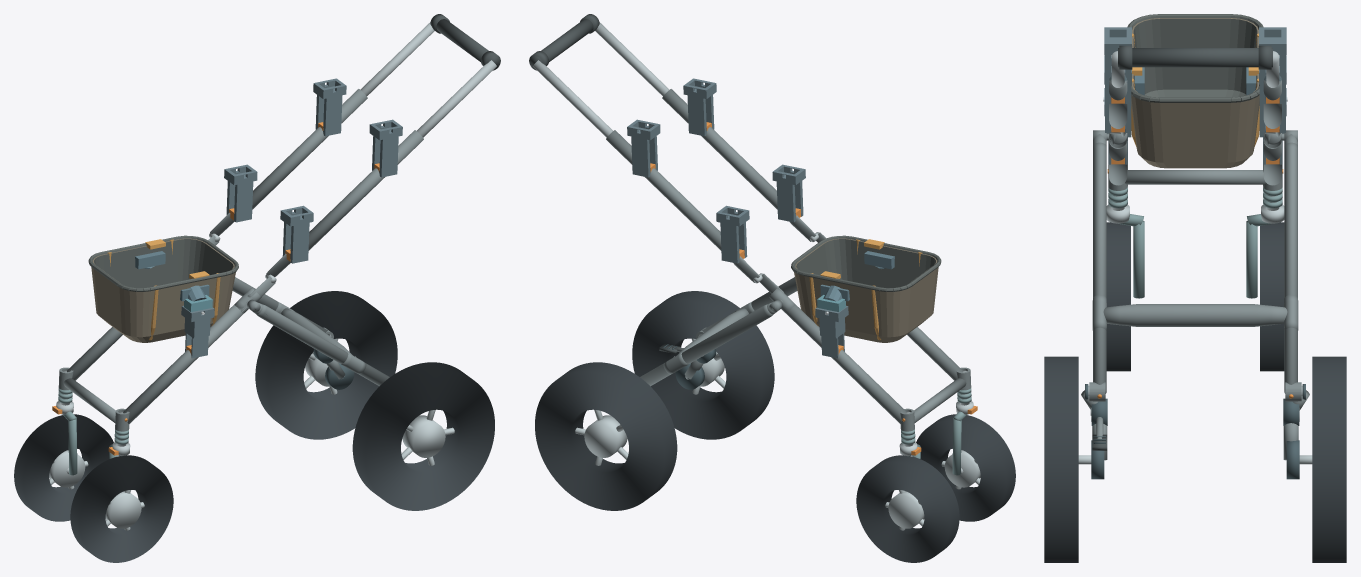
The model's file is S15_w380_state1_wheel_L.glb.
The picture shows the model from 3 angles, left to right: view 1: azimuth 30°, elevation 25°; view 2: azimuth 150°, elevation 25°; view 3: azimuth 270°, elevation 25°; orthographic projection. The views are drawn at different scales.
Parts seen in each view (by area): view 1: RL_tire.009, RR_tire.009, S15_Cabin, FL_tire.009, FR_tire.009, main_lower_-1, main_upper_1, main_upper_-1, V46_rear_leg_-1.002, Universal_Cabin_Receiver_H_-1, Universal_Cabin_Receiver_H_1, Universal_Cabin_Receiver_M_-1 (+11 smaller); view 2: RR_tire.009, RL_tire.009, S15_Cabin, FR_tire.009, FL_tire.009, main_lower_1, main_upper_-1, main_upper_1, V46_rear_leg_1.002, Universal_Cabin_Receiver_M_1, Universal_Cabin_Receiver_M_-1, Universal_Cabin_Receiver_H_1 (+11 smaller); view 3: S15_Cabin, RL_tire.009, RR_tire.009, V46_rearbar.002, FL_tire.009, FR_tire.009, V46_rear_leg_1.002, V46_rear_leg_-1.002, round_handle.010, front_fixed_round_tube, Universal_Cabin_Receiver_H_1, Universal_Cabin_Receiver_H_-1 (+12 smaller).
Part boxes in pixels (x1,y1,x2,y2): RL_tire.009: [352, 362, 494, 510]; RR_tire.009: [255, 291, 397, 439]; S15_Cabin: [88, 235, 238, 342]; FL_tire.009: [70, 455, 173, 562]; FR_tire.009: [14, 414, 113, 521]; main_lower_-1: [123, 305, 247, 424]; main_upper_1: [252, 89, 367, 209]; main_upper_-1: [290, 130, 423, 250]; V46_rear_leg_-1.002: [256, 304, 389, 386]; Universal_Cabin_Receiver_H_-1: [369, 119, 402, 177]; Universal_Cabin_Receiver_H_1: [313, 78, 346, 136]; Universal_Cabin_Receiver_M_-1: [280, 205, 313, 263]; RR_tire.009: [535, 362, 677, 510]; RL_tire.009: [632, 291, 774, 439]; S15_Cabin: [791, 235, 941, 342]; FR_tire.009: [856, 455, 959, 562]; FL_tire.009: [916, 414, 1015, 521]; main_lower_1: [782, 305, 906, 424]; main_upper_-1: [662, 89, 777, 209]; main_upper_1: [606, 130, 739, 250]; V46_rear_leg_1.002: [640, 304, 773, 386]; Universal_Cabin_Receiver_M_1: [716, 205, 749, 263]; Universal_Cabin_Receiver_M_-1: [772, 164, 805, 222]; Universal_Cabin_Receiver_H_1: [627, 119, 660, 177]; S15_Cabin: [1127, 14, 1263, 168]; RL_tire.009: [1044, 356, 1078, 562]; RR_tire.009: [1312, 356, 1346, 562]; V46_rearbar.002: [1103, 304, 1287, 326]; FL_tire.009: [1106, 222, 1130, 371]; FR_tire.009: [1260, 222, 1284, 371]; V46_rear_leg_1.002: [1284, 142, 1297, 393]; V46_rear_leg_-1.002: [1093, 142, 1106, 393]; round_handle.010: [1118, 48, 1272, 67]; front_fixed_round_tube: [1125, 170, 1265, 184]; Universal_Cabin_Receiver_H_1: [1259, 27, 1286, 103]; Universal_Cabin_Receiver_H_-1: [1104, 27, 1131, 103].
Bounding box in the file's own units: 1.18 × 1.09 × 0.5271.
